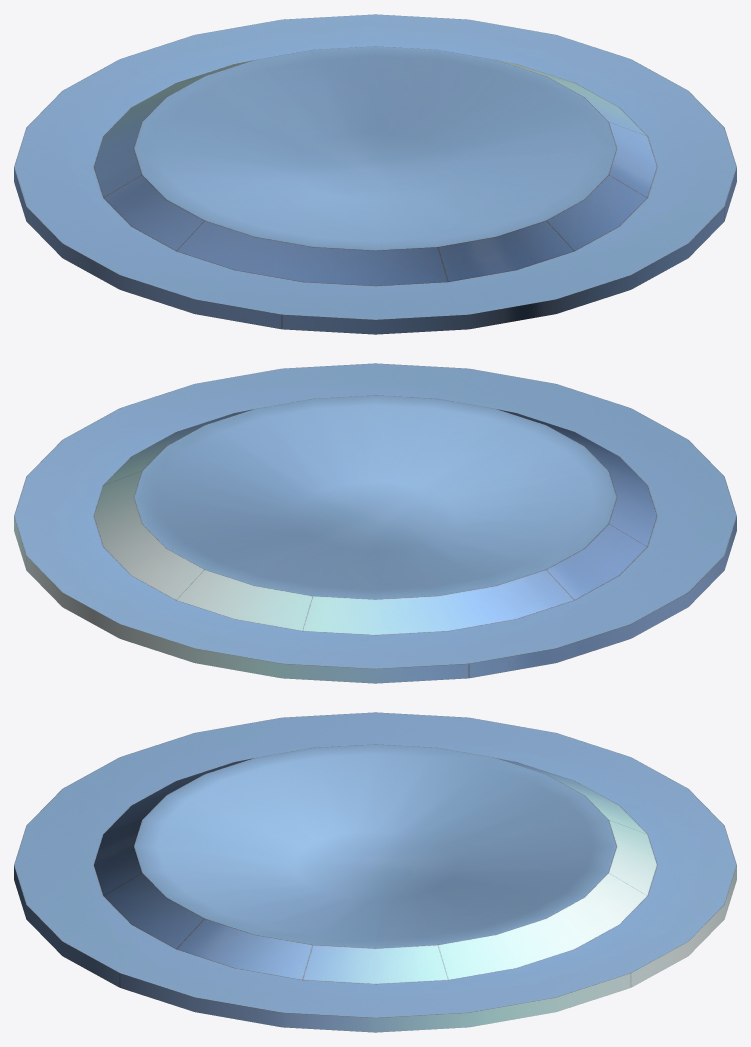
File: table.obj
The picture shows the model from 3 angles, top to bottom: view 1: azimuth 30°, elevation 25°; view 2: azimuth 150°, elevation 25°; view 3: azimuth 270°, elevation 25°; orthographic projection.
Parts seen in each view (by area): view 1: Cylinder001; view 2: Cylinder001; view 3: Cylinder001.
Part boxes in pixels (box(x1,y1,x2,y2)): Cylinder001: box(14, 14, 736, 334); Cylinder001: box(14, 363, 736, 683); Cylinder001: box(14, 712, 736, 1032).
Bounding box in the file's own units: 481 × 24.5 × 481.
Materials: 1 (1 with a texture image).
